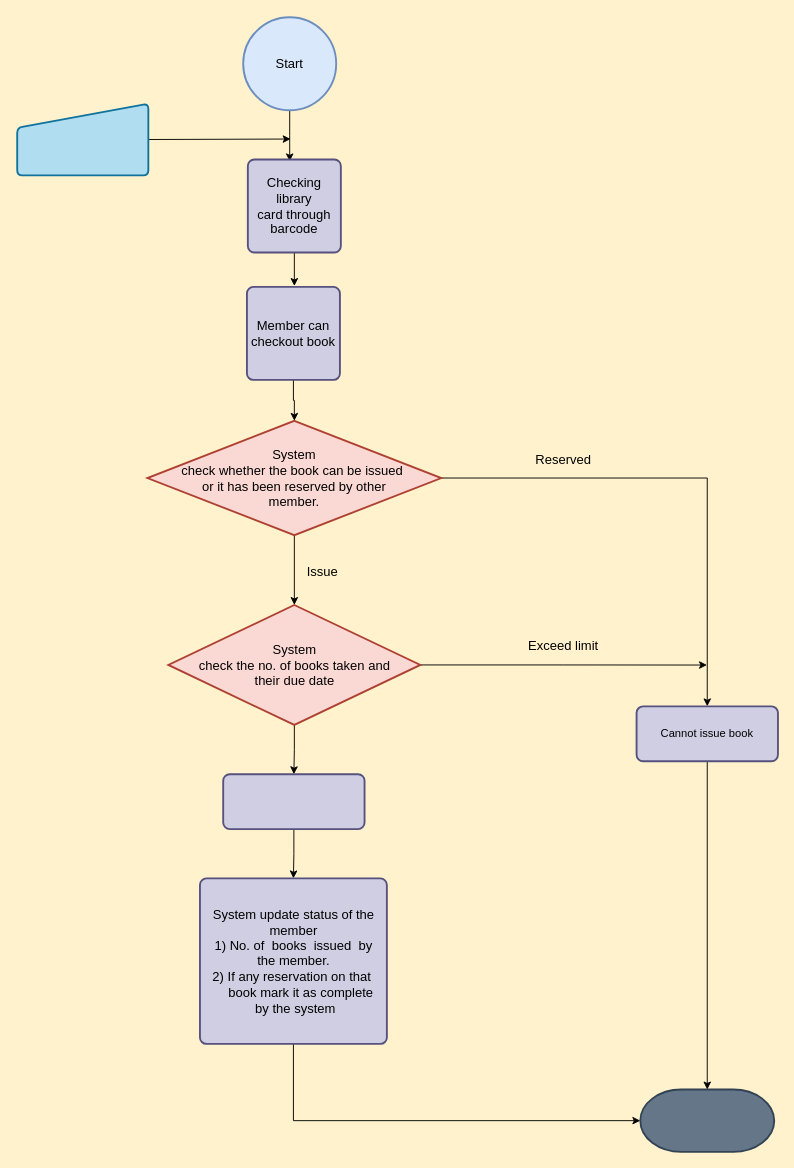
Image size: 794x1168. Some labels were removed from this diagram. The shapes that lost their labels are listed below. From the top down, each one's box as (x1, y1, x2, y2) in pixels, then its label:
(16, 102, 149, 176): Handling Library card
(222, 773, 365, 830): System Checkout book Transaction
(639, 1088, 775, 1152): End
